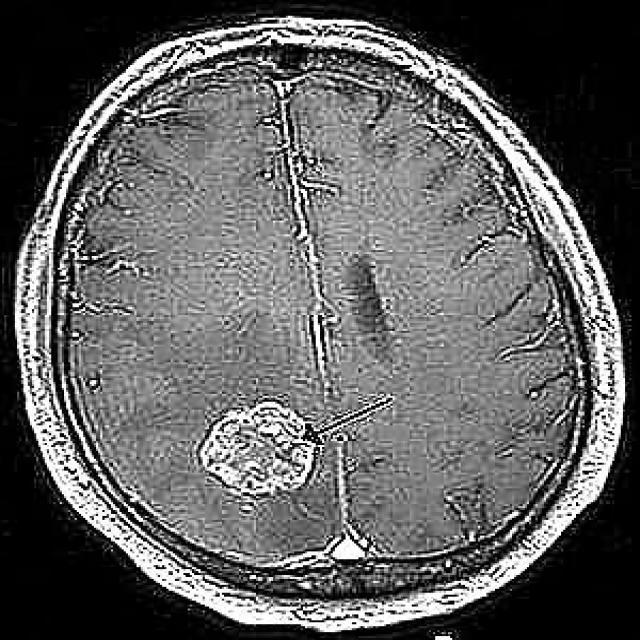Tumor: (190, 390, 329, 512)
